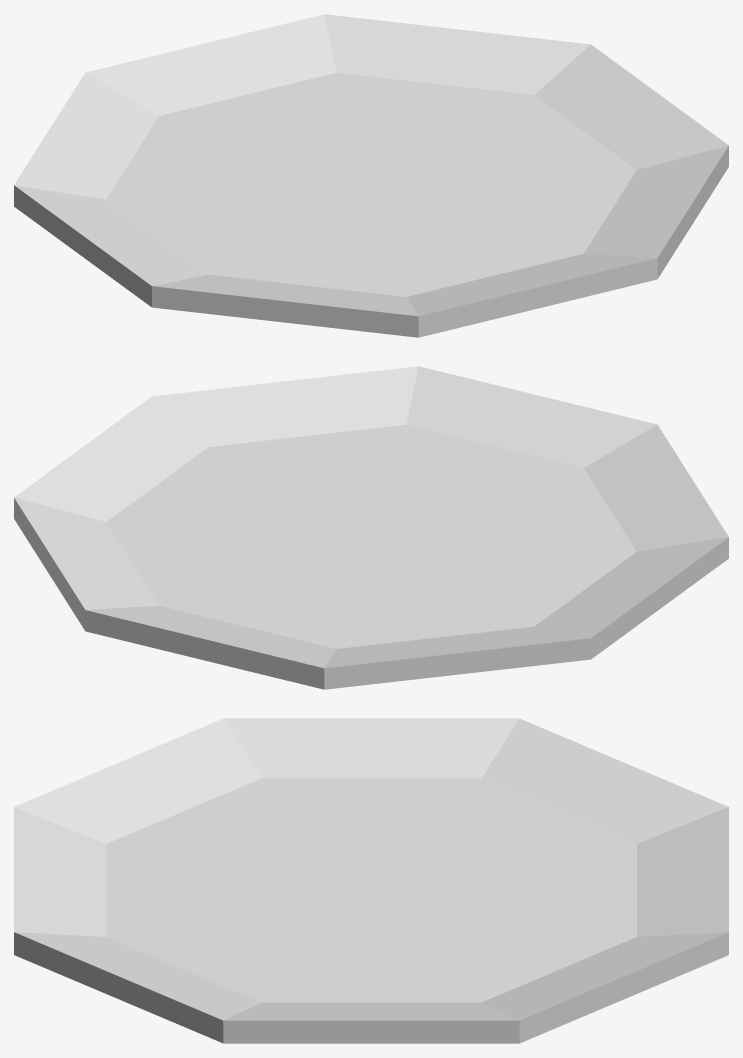
File: Plate2_C1.fbx
The picture shows the model from 3 angles, top to bottom: view 1: azimuth 30°, elevation 25°; view 2: azimuth 150°, elevation 25°; view 3: azimuth 270°, elevation 25°; orthographic projection. The views are drawn at different scales.
Parts seen in each view (by area): view 1: Plate2_C1; view 2: Plate2_C1; view 3: Plate2_C1.
Part boxes in pixels (x1,y1,x2,y2): Plate2_C1: [14, 14, 728, 337]; Plate2_C1: [14, 366, 728, 689]; Plate2_C1: [14, 718, 728, 1043].
Bounding box in the file's own units: 21.53 × 1.46 × 21.53.
